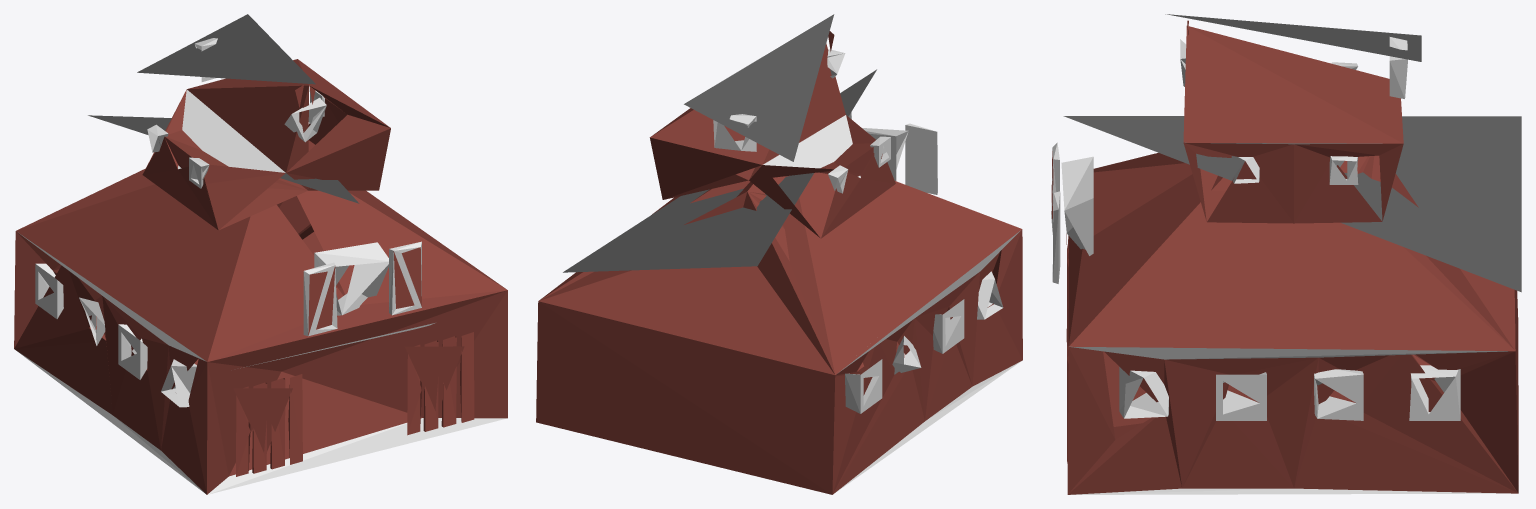
Rendered from BigBarn.lod3.glb.
3 views of the same model, side by side, from view 1: azimuth 30°, elevation 25°; view 2: azimuth 150°, elevation 25°; view 3: azimuth 270°, elevation 25° (orthographic). The views are drawn at different scales.
Visible parts, largest first — view 1: BigBarn, BigBarn_Door, BigBarn_Door2, BigBarn_Window2, BigBarn_Window; view 2: BigBarn, BigBarn_Window2; view 3: BigBarn, BigBarn_Window.
Boxes of the visible parts, box(x1,y1,x2,y2) form: BigBarn: box(14, 14, 507, 494); BigBarn_Door: box(405, 332, 474, 435); BigBarn_Door2: box(233, 374, 302, 476); BigBarn_Window2: box(303, 262, 337, 336); BigBarn_Window: box(389, 241, 421, 315); BigBarn: box(536, 14, 1022, 494); BigBarn_Window2: box(905, 123, 937, 194); BigBarn: box(1061, 14, 1521, 494); BigBarn_Window: box(1052, 191, 1060, 283).
Size of the model in its own units: 7.18 by 7.67 by 8.17.
